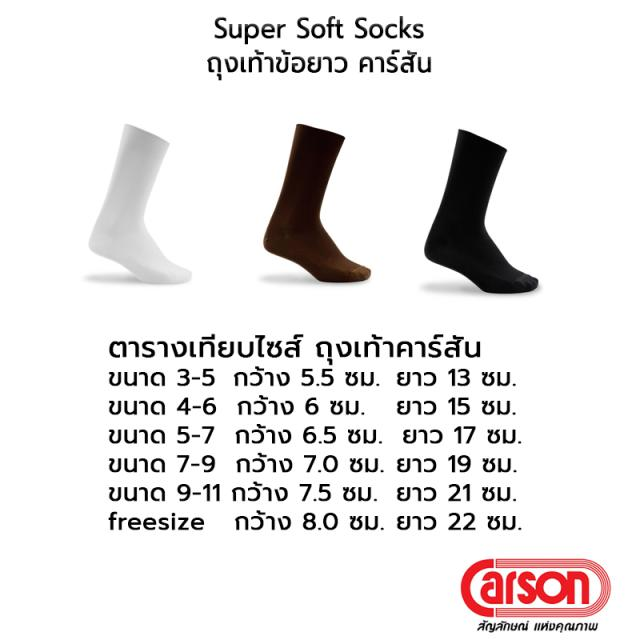sock: (424, 128, 538, 294), (262, 122, 370, 282), (87, 122, 191, 284)
